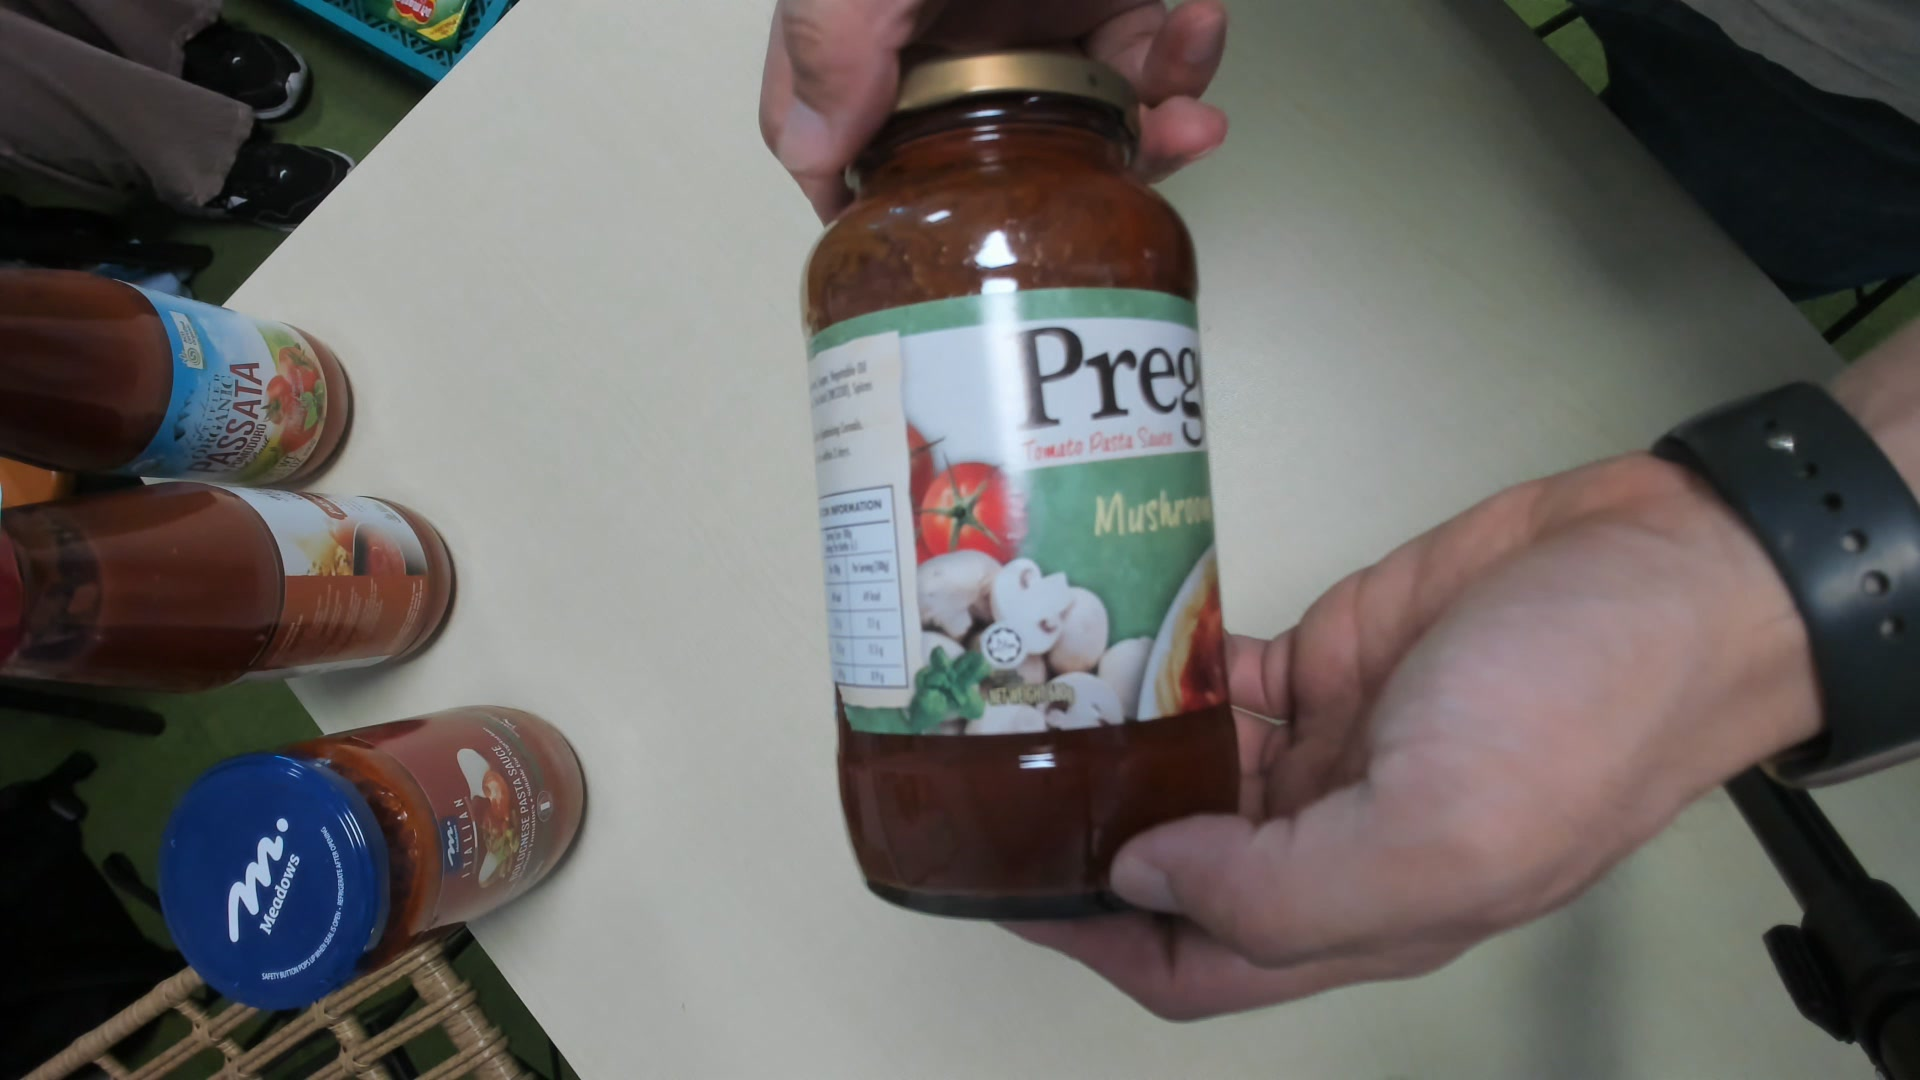PastaSauce_600-699g_Halal_NonHealthy: (800, 47, 1244, 922)
